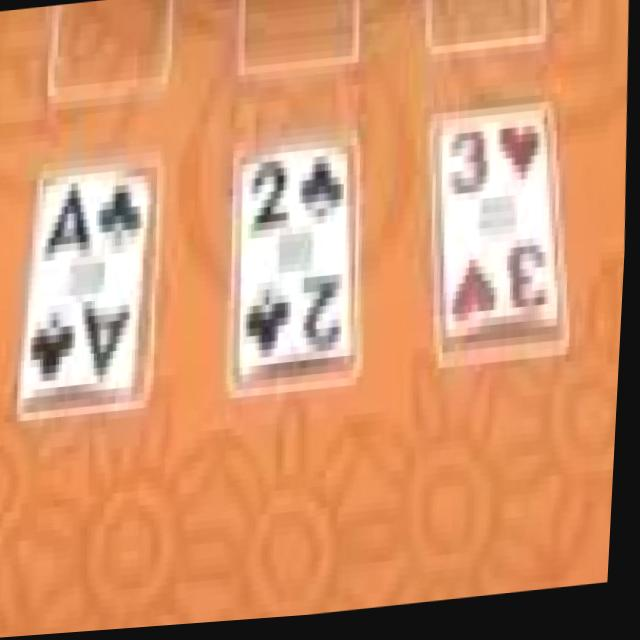Card-2: (244, 153, 352, 377)
Card-3: (444, 116, 560, 345)
Card-A: (24, 173, 151, 401)
